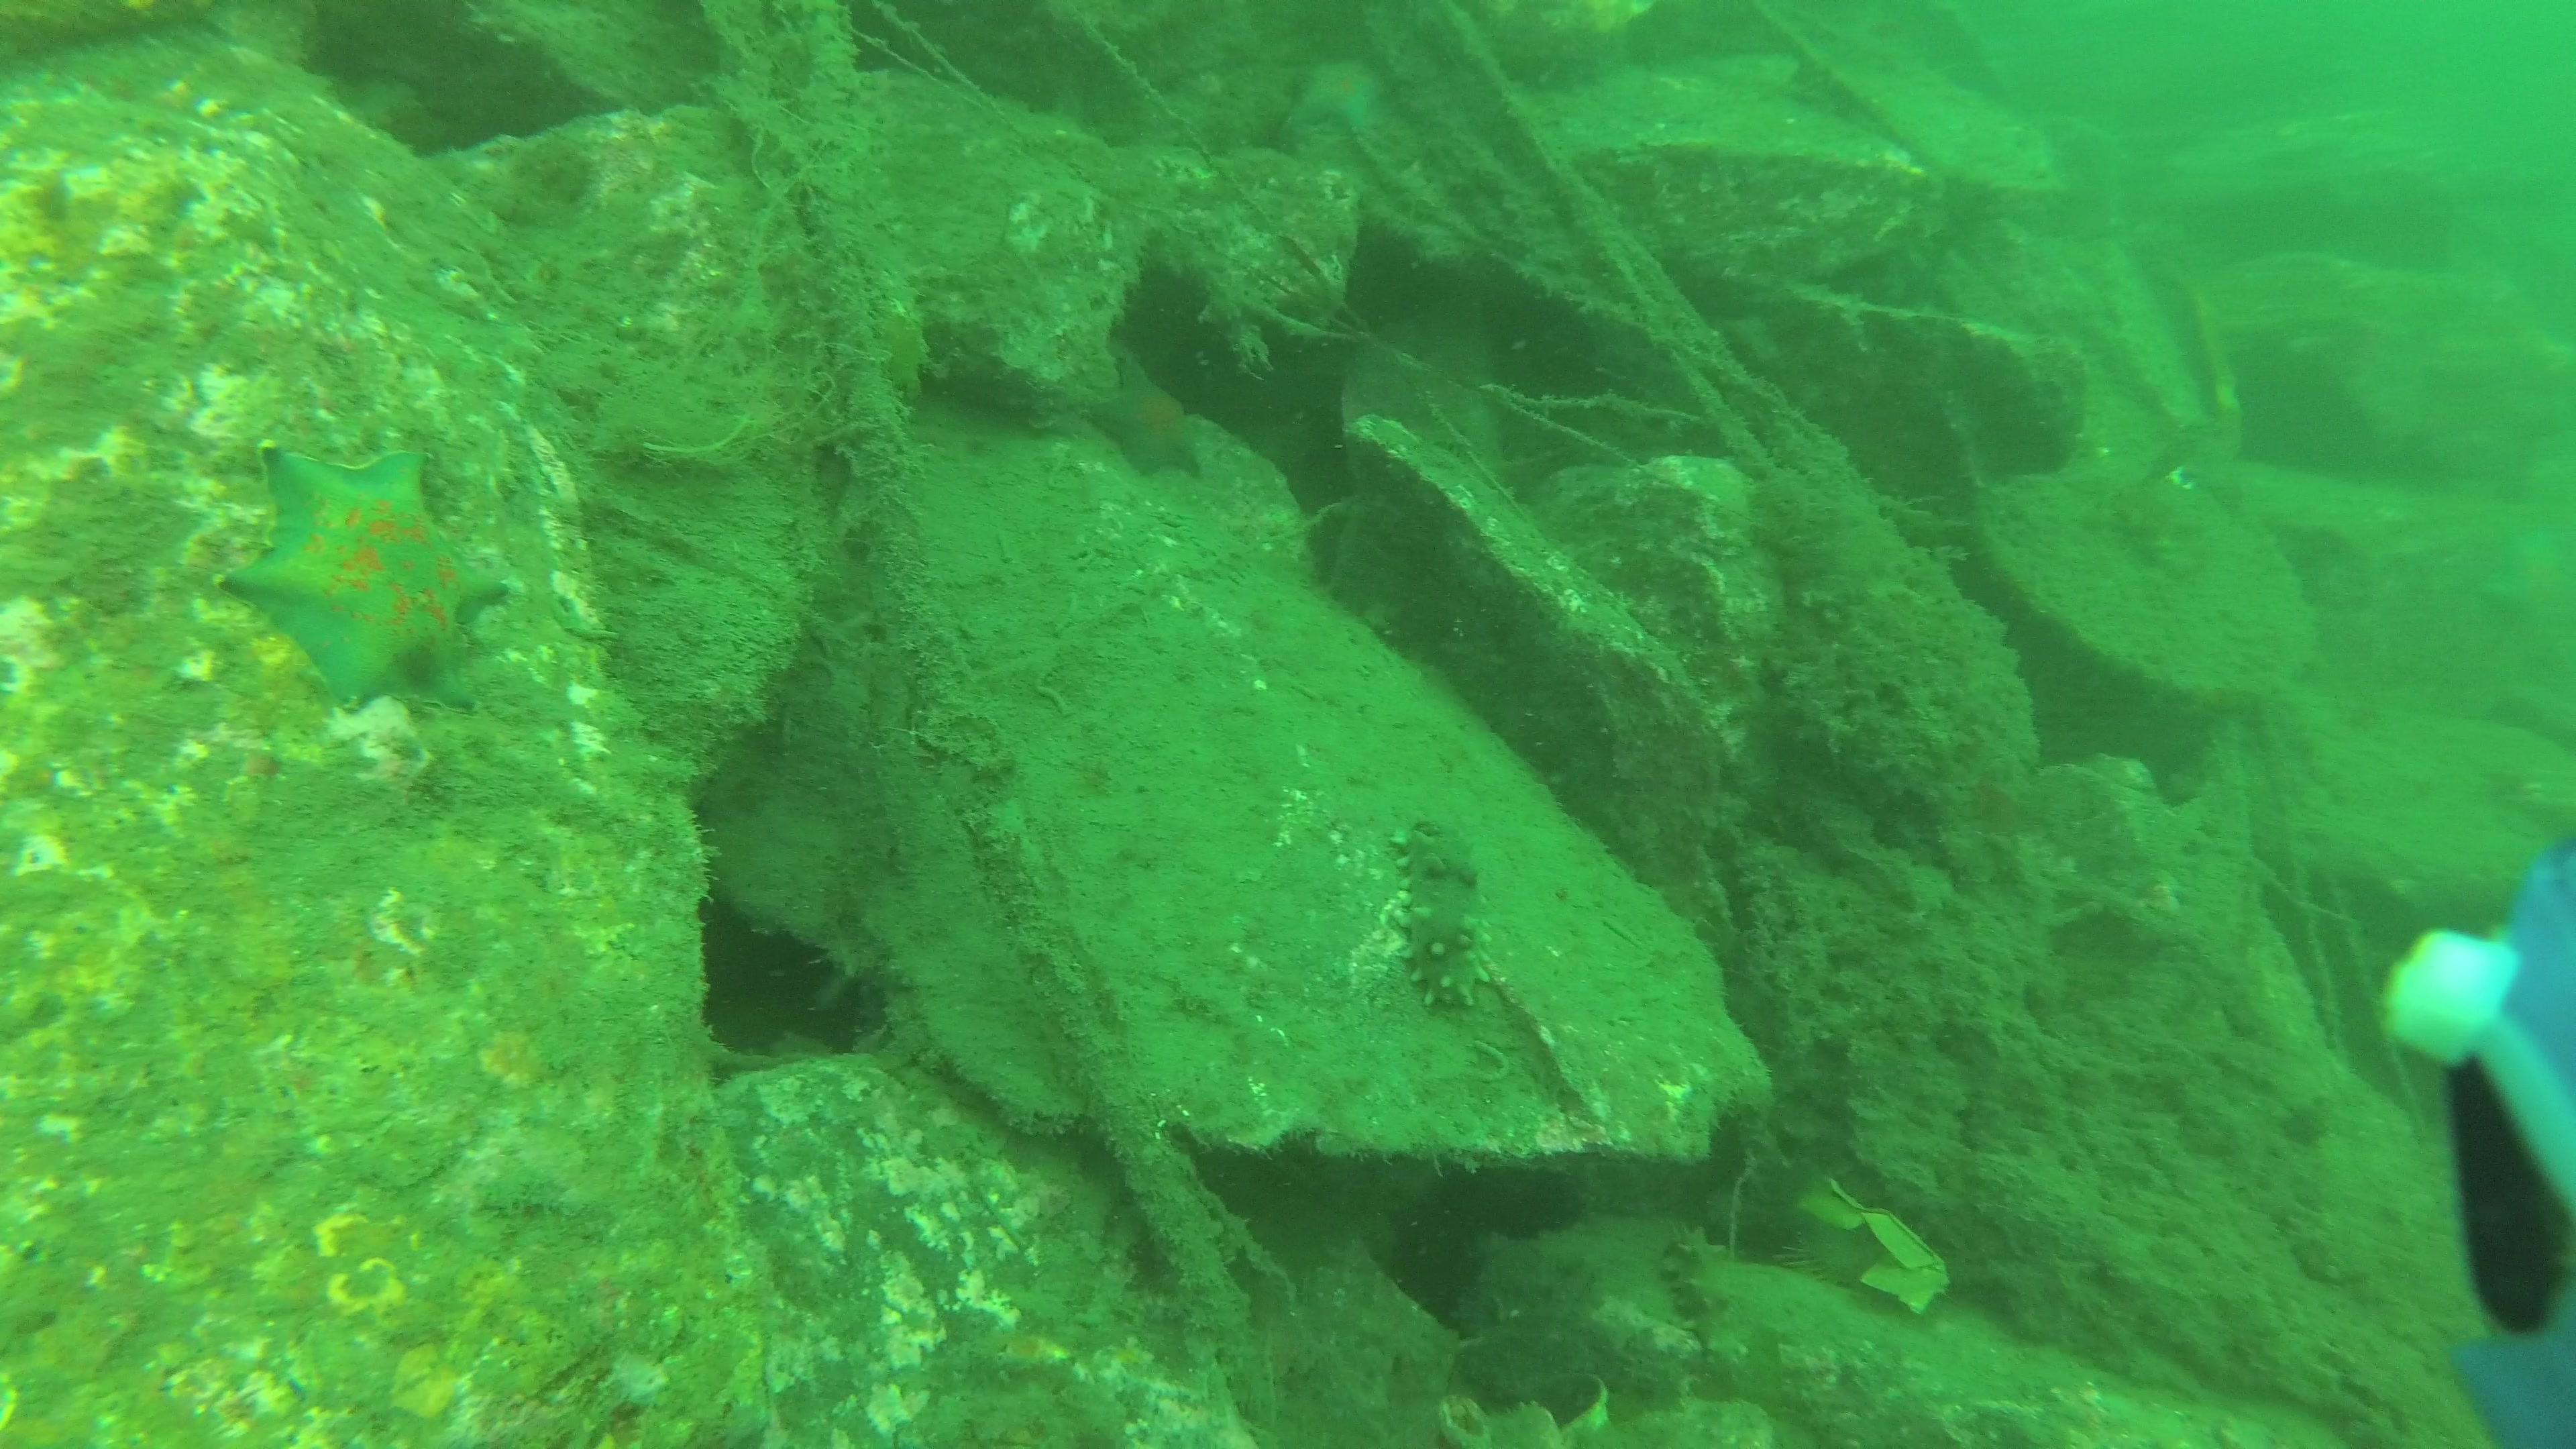holothurian: (1385, 801, 1500, 1030)
starfish: (209, 433, 518, 717), (1070, 333, 1208, 495)
